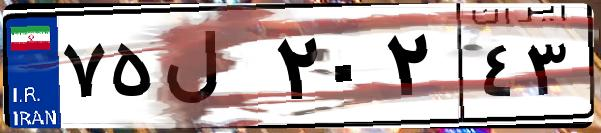0: (330, 28, 385, 110)
2: (270, 28, 330, 110), (385, 28, 445, 110)
3: (525, 38, 570, 115)
4: (475, 38, 525, 113)
5: (110, 28, 158, 98)
7: (57, 26, 110, 100)
ل: (158, 20, 270, 120)
